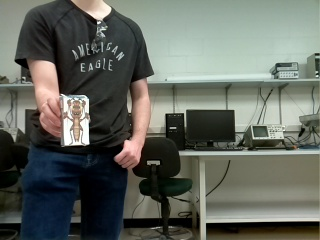Angry: (63, 98, 89, 145)
